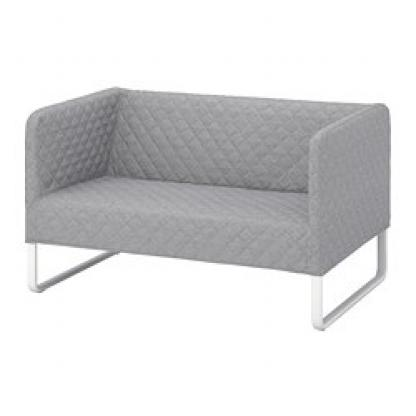Sofa: (20, 72, 391, 334)
